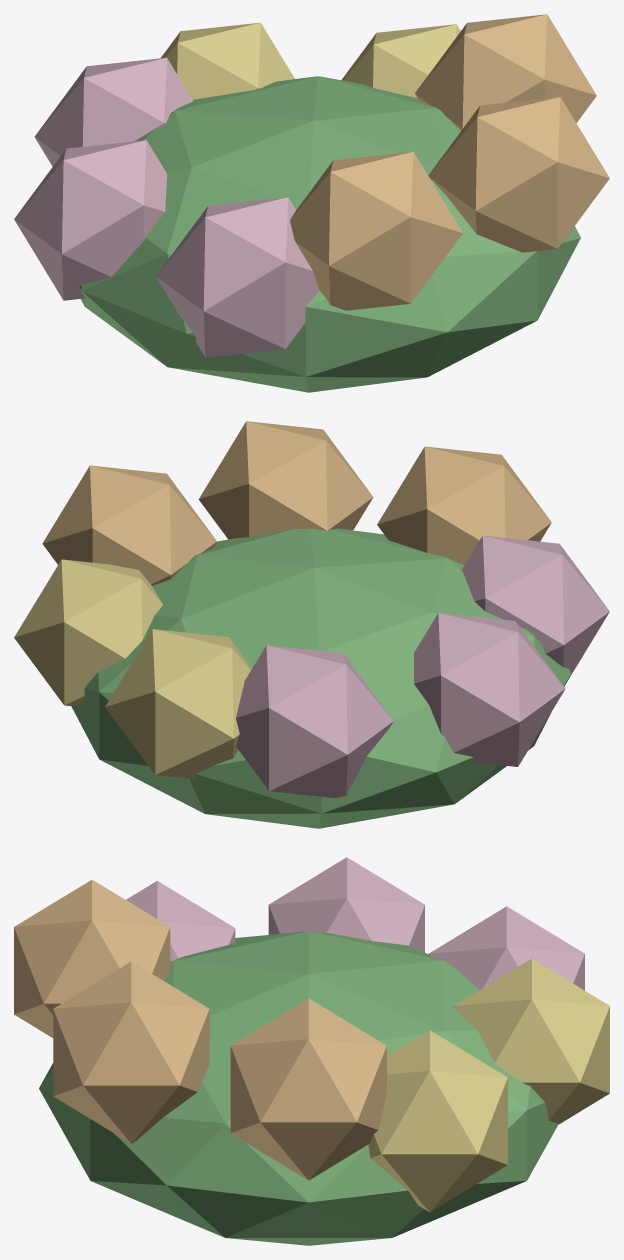
The model's file is flowers.glb.
3 views of the same model, one above another, from view 1: azimuth 30°, elevation 25°; view 2: azimuth 150°, elevation 25°; view 3: azimuth 270°, elevation 25° (orthographic). The views are drawn at different scales.
Visible parts, largest first — view 1: flowers; view 2: flowers; view 3: flowers.
Part boxes in pixels (x1,y1,x2,y2): flowers: [14, 14, 609, 392]; flowers: [14, 421, 609, 828]; flowers: [14, 857, 609, 1245].
Size of the model in its own units: 1.05 by 0.5361 by 1.04.
